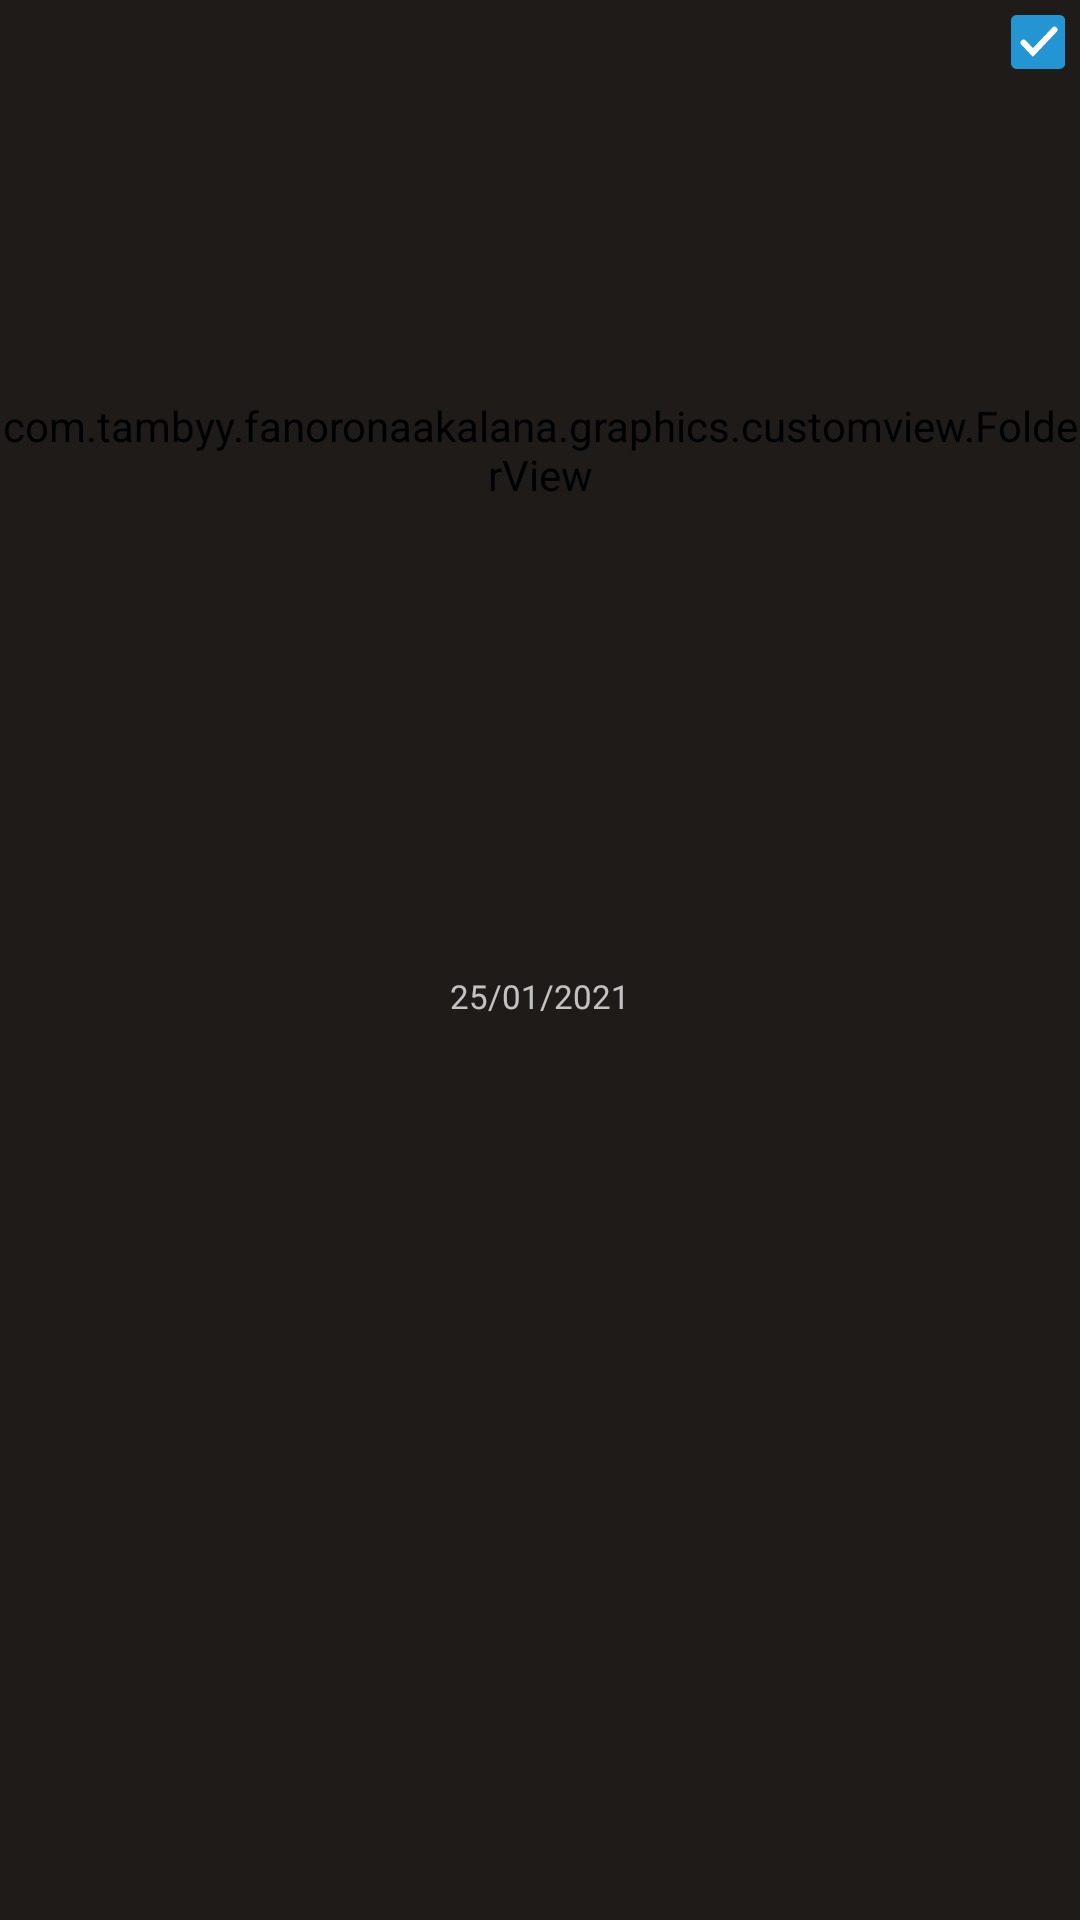

Screen size 1080 x 1920. Icon name, then its center in pixels as point (x, y):
saved game checked: point (1038, 42)
